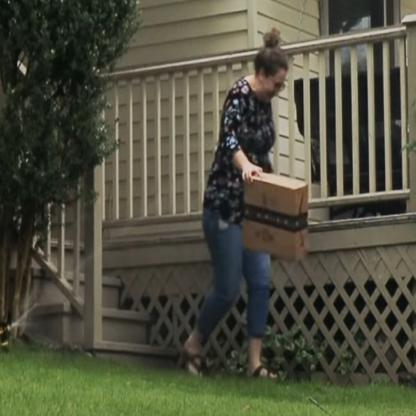package: (241, 169, 311, 263)
